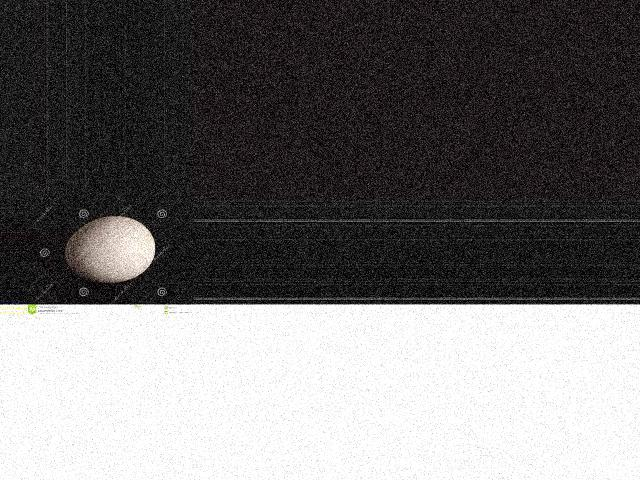egg: (65, 216, 156, 283)
